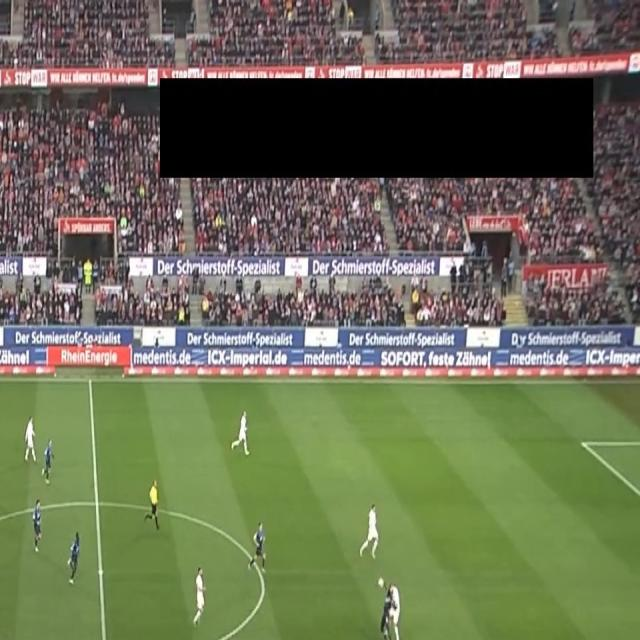ball: (378, 576, 384, 588)
